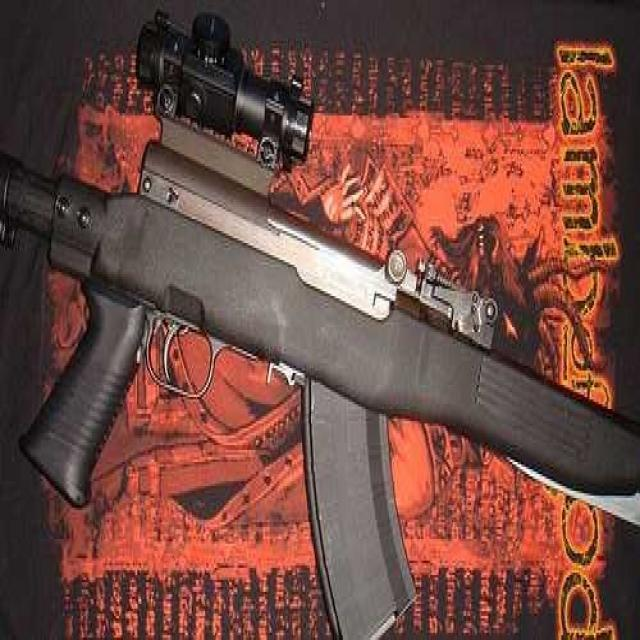weapon: (5, 27, 640, 630)
